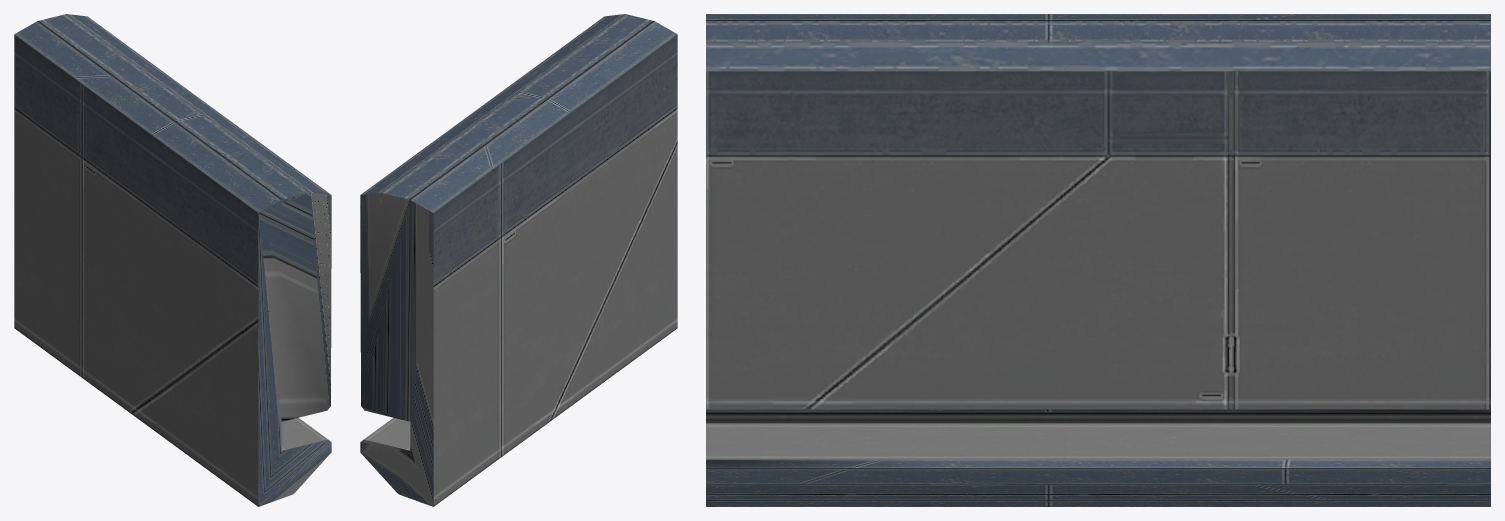
Rendered from Club_StraightBorder3x_02.FBX.
3 views of the same model, side by side, from view 1: azimuth 30°, elevation 25°; view 2: azimuth 150°, elevation 25°; view 3: azimuth 270°, elevation 25° (orthographic). The views are drawn at different scales.
Parts seen in each view (by area): view 1: Club_StraightBorder3x_02; view 2: Club_StraightBorder3x_02; view 3: Club_StraightBorder3x_02.
Boxes of the visible parts, <box> form: Club_StraightBorder3x_02: <box>14,14,331,506</box>; Club_StraightBorder3x_02: <box>360,14,677,506</box>; Club_StraightBorder3x_02: <box>706,14,1490,506</box>.
Size of the model in its own units: 1.04 by 4.08 by 6.
